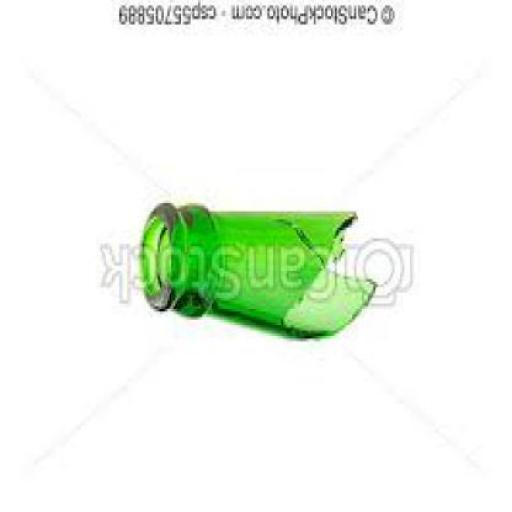glass: (143, 204, 379, 344)
